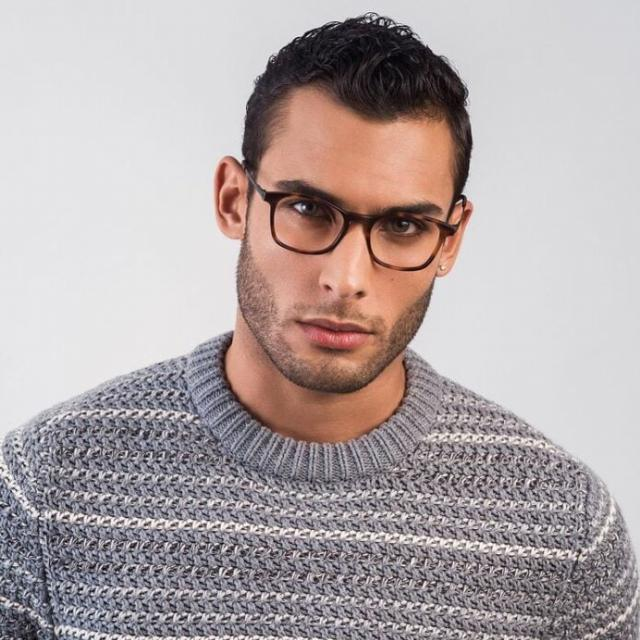Glasses: (246, 166, 462, 276)
